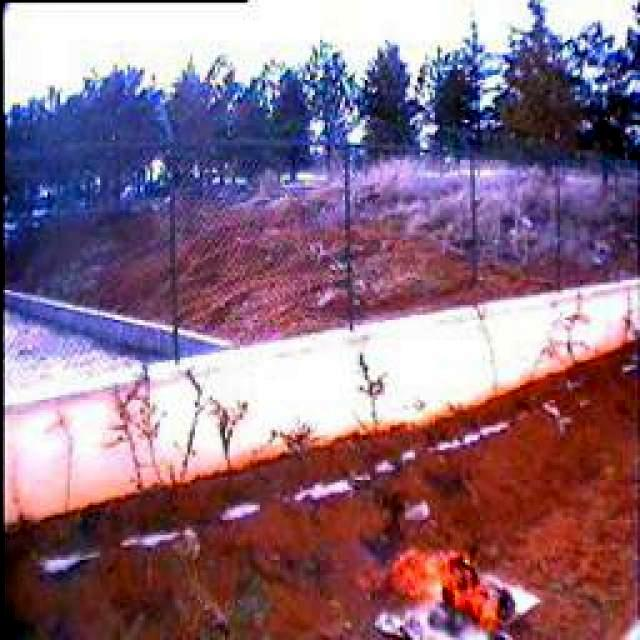fire: (360, 542, 516, 636)
